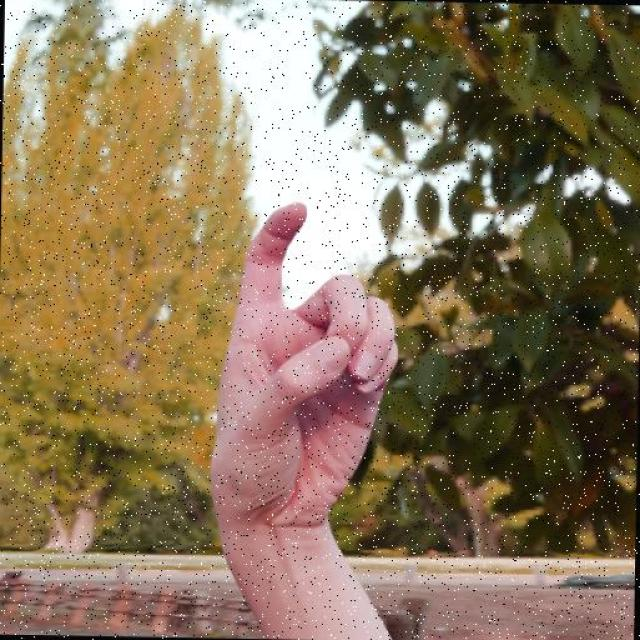X: (202, 190, 408, 545)
